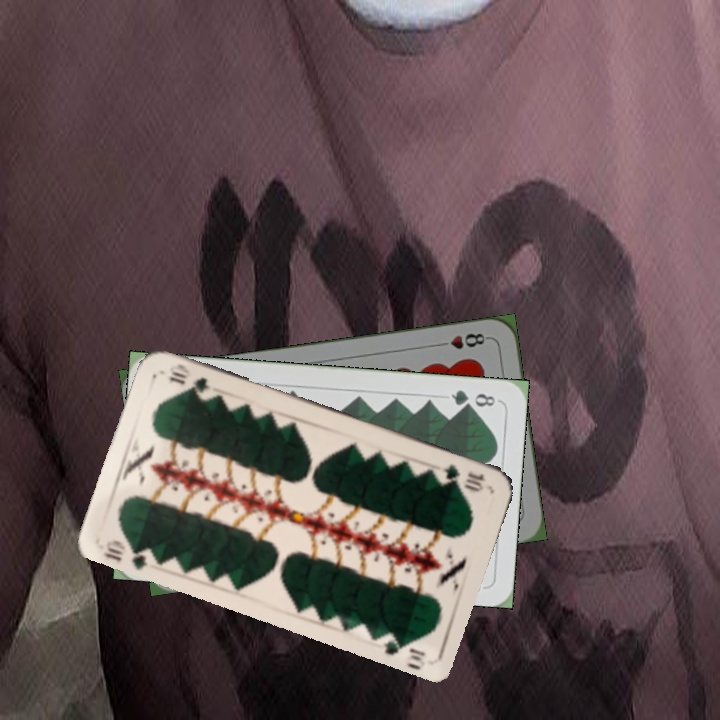G10: (99, 536, 157, 571), (438, 459, 488, 494)
G8: (447, 385, 501, 411)
H8: (433, 329, 492, 352)
